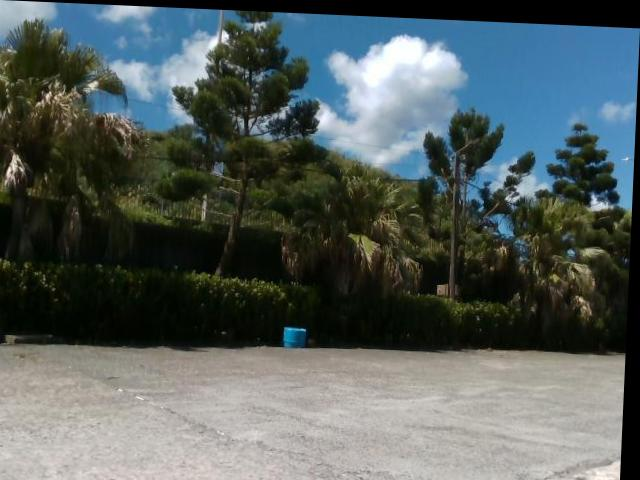pollute: (284, 321, 312, 350)
